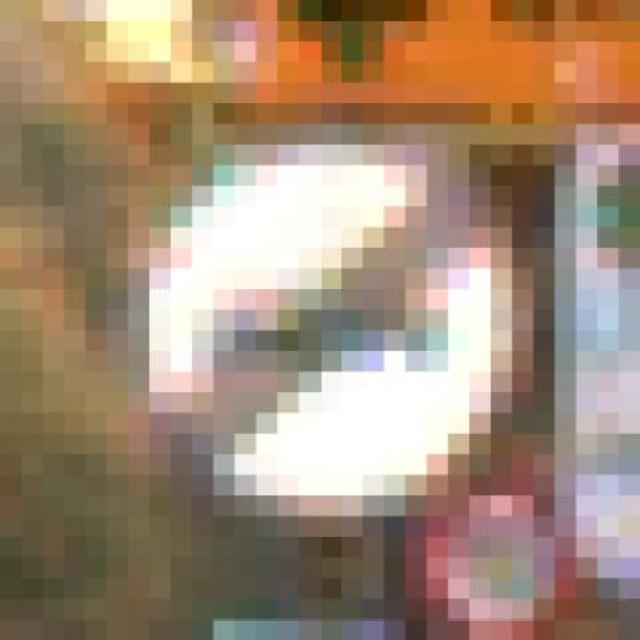No_Over_Taking: (64, 82, 533, 558)
